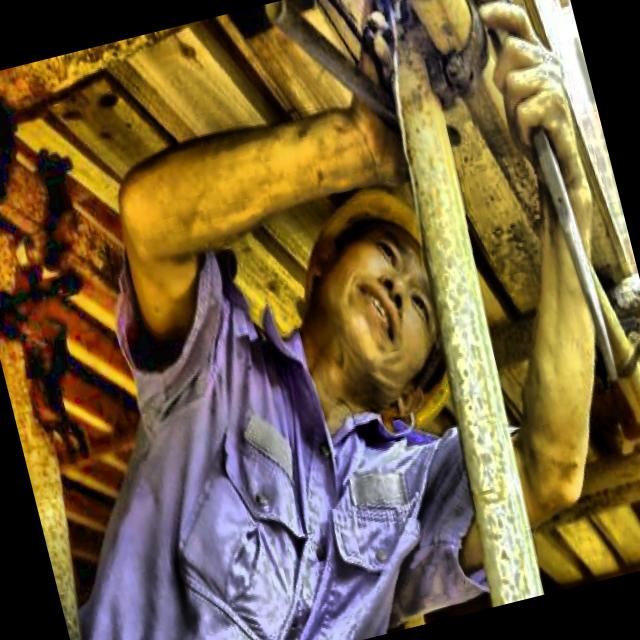helmet: (240, 130, 480, 448)
